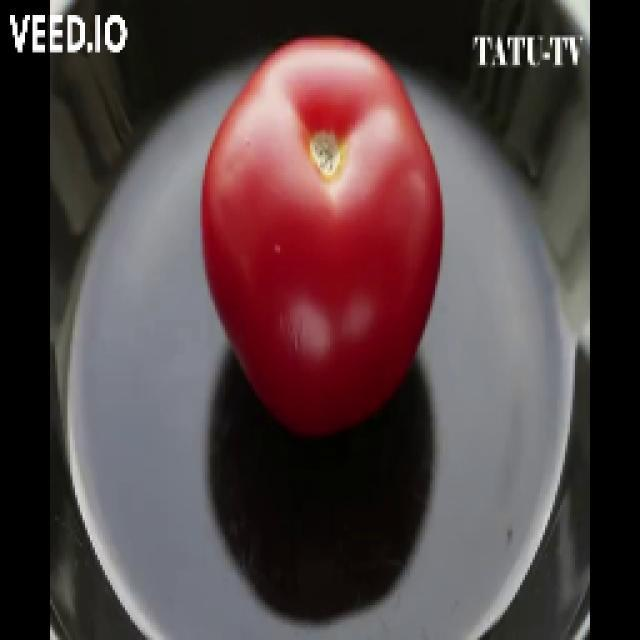tomato: (199, 37, 444, 442)
